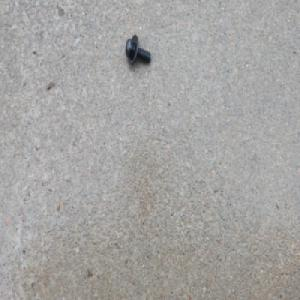BoltWasher: (125, 34, 152, 67)
